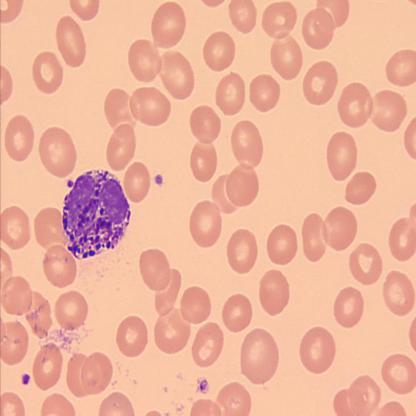Basophil: (58, 167, 134, 263)
